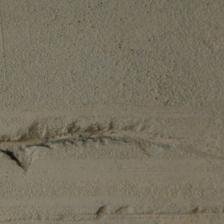Crack: (2, 62, 178, 111)
